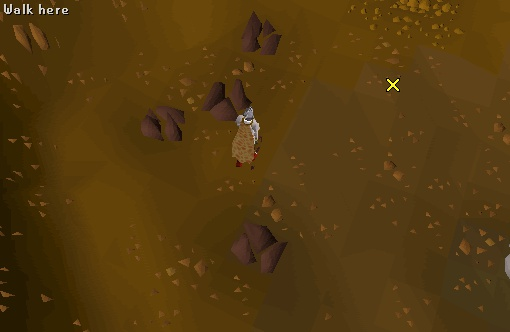iron: (223, 217, 296, 280), (194, 72, 259, 128), (133, 97, 197, 153), (233, 8, 293, 65)
